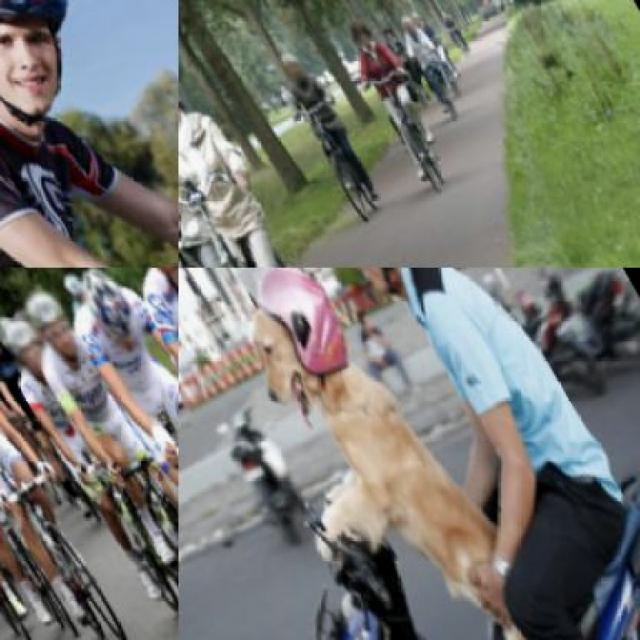With Helmet: (0, 0, 126, 145), (65, 268, 160, 364), (275, 268, 437, 320), (11, 272, 91, 371), (0, 301, 58, 378), (115, 268, 177, 314), (0, 301, 12, 361)
Without Helmet: (274, 40, 312, 86), (390, 0, 426, 38), (342, 7, 376, 45), (178, 68, 192, 138)
